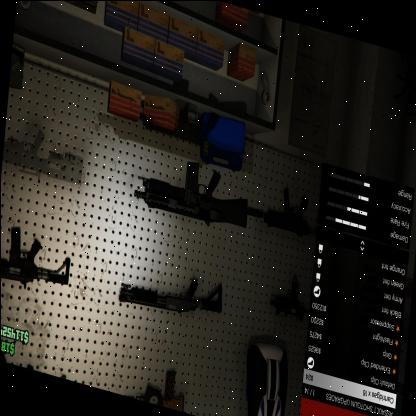rifle: (128, 144, 254, 236), (112, 251, 232, 336)
